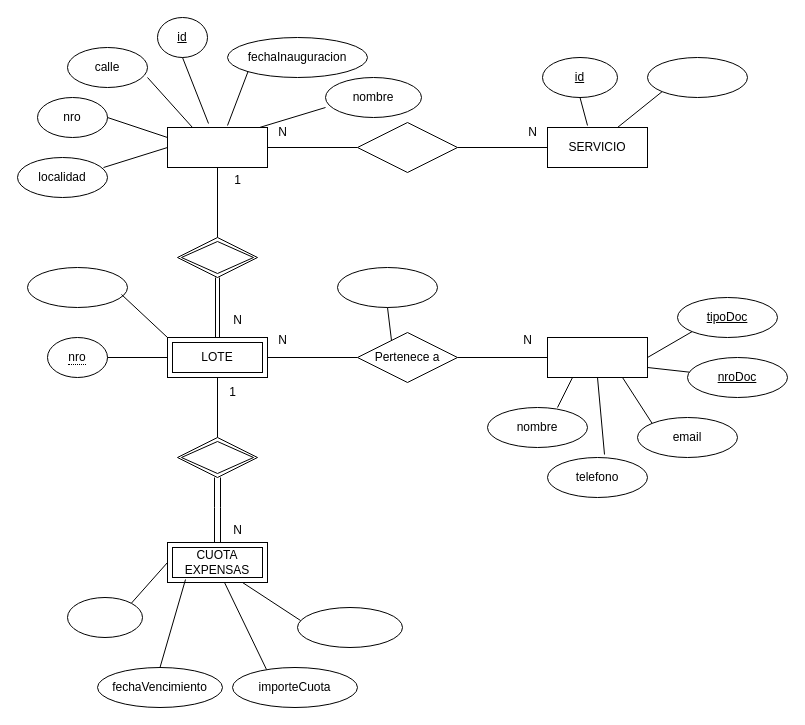
Some shapes in this 805 by 725 pixel diagram are drawn without their labels. Each missing label, with the centre of its shape:
"Abona" belongs at (x=217, y=457).
"añoYMes" belongs at (x=104, y=617).
"BARRIO CERRADO" belongs at (x=217, y=147).
"Cuenta con" belongs at (x=407, y=147).
"descripcion" belongs at (x=697, y=77).
"fechaPago" belongs at (x=349, y=627).
"porcentaje" belongs at (x=387, y=287).
"PROPIETARIO" belongs at (x=597, y=357).
"supM2" belongs at (x=77, y=287).
"Tiene" belongs at (x=217, y=257).
